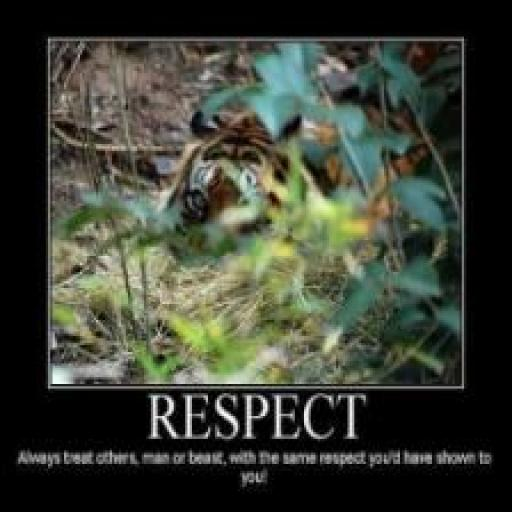Tiger: (154, 90, 437, 267)
